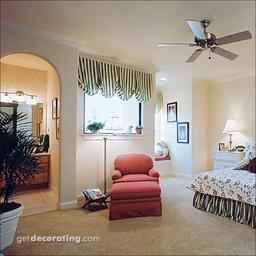Cama: (193, 143, 255, 226)
Matera: (1, 116, 33, 250)
